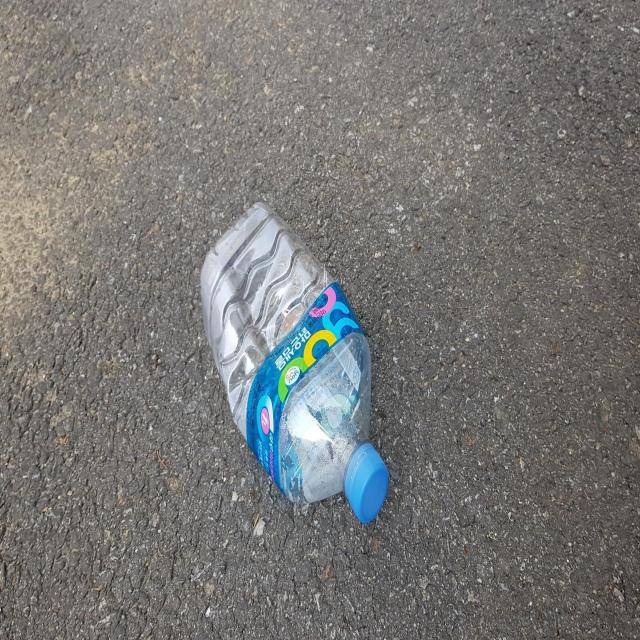plastic: (200, 202, 388, 522)
